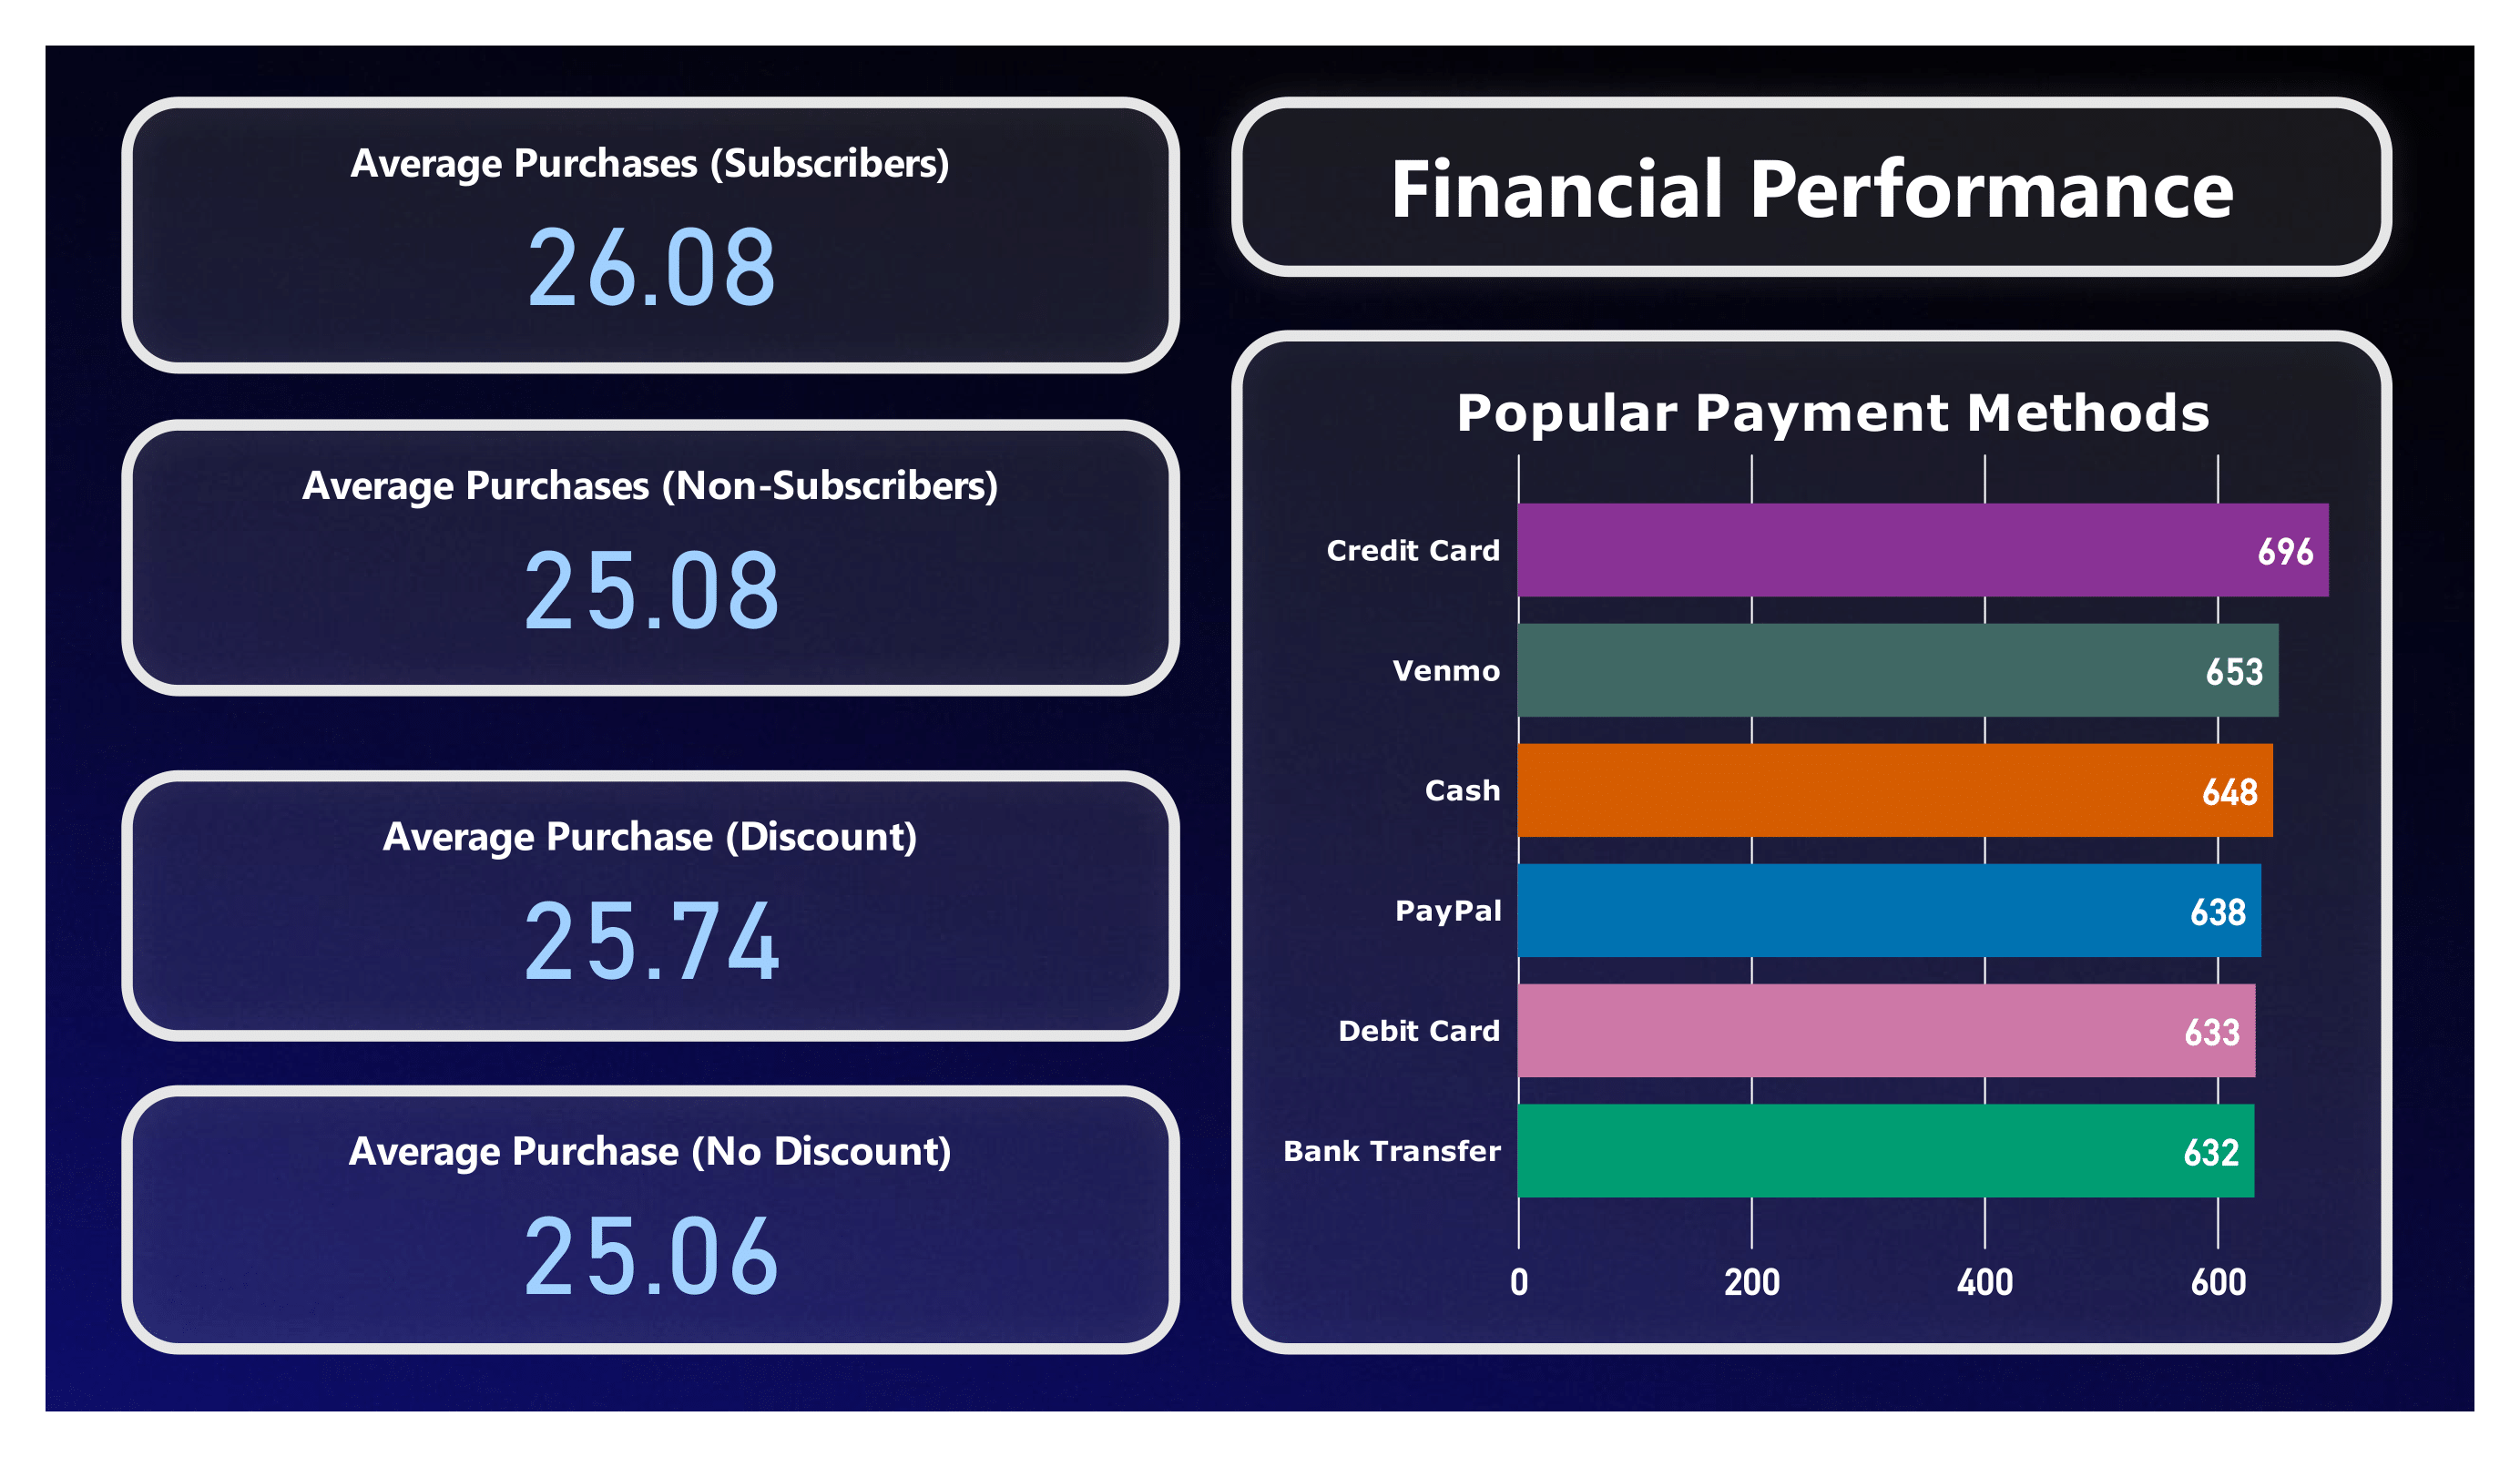

The page's visual inventory and layout, read from the dashboard file:
{"tool":"powerbi","page":{"name":"Financial Performance","canvas":[1280,720],"ordinal":3},"visuals":[{"type":"textbox","box":[625,26.7,611.7,95],"z":0},{"type":"clusteredBarChart","title":" Popular Payment Methods","fields":{"Category":["public payment_methods.method_name"],"Y":["public shopping_trend.Total Customers"]},"box":[625,150,611.7,540],"z":3000},{"type":"cardVisual","fields":{"Data":["public shopping_trend.Average Purchases (Subscribers)"]},"box":[40,26.7,558.3,146.7],"z":3001},{"type":"cardVisual","fields":{"Data":["public shopping_trend.Average Purchases (Non-Subscribers)"]},"box":[40,196.7,558.3,146.7],"z":3002},{"type":"cardVisual","fields":{"Data":["public shopping_trend.Average Purchase (Discount)"]},"box":[40,381.7,558.3,143.3],"z":3003},{"type":"cardVisual","fields":{"Data":["public shopping_trend.Average Purchase (No Discount)"]},"box":[40,548.3,558.3,141.7],"z":3004}]}

Visuals, with their boxes in screenshot pixels (x1, y1, x2, y2):
textbox: region(1231, 97, 2392, 277)
" Popular Payment Methods" clusteredBarChart: region(1231, 330, 2392, 1355)
cardVisual - public shopping_trend.Average Purchases (Subscribers): region(121, 97, 1181, 374)
cardVisual - public shopping_trend.Average Purchases (Non-Subscribers): region(121, 419, 1181, 697)
cardVisual - public shopping_trend.Average Purchase (Discount): region(121, 769, 1181, 1042)
cardVisual - public shopping_trend.Average Purchase (No Discount): region(121, 1085, 1181, 1355)
